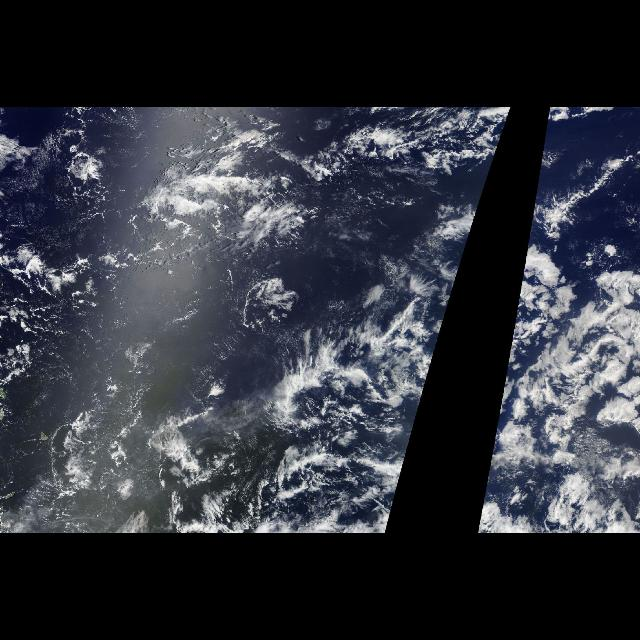Fish: (195, 298, 428, 442), (163, 145, 324, 263)
Flower: (476, 230, 640, 532)
Gravel: (8, 288, 92, 390)
